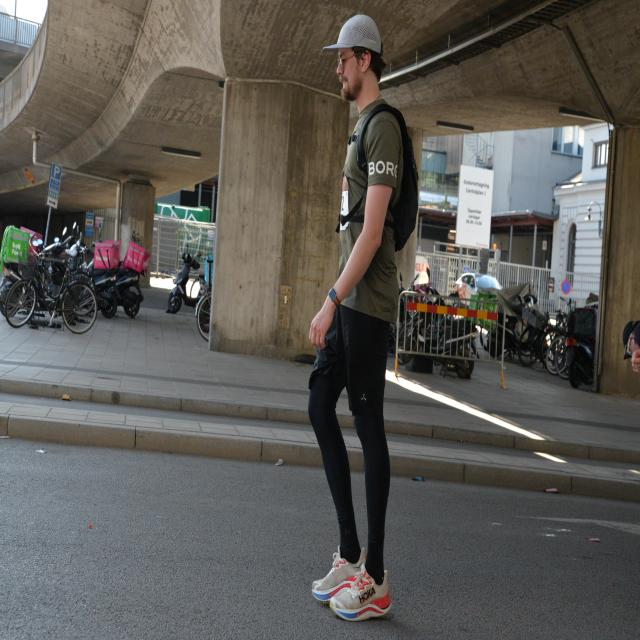runner-detect: (294, 12, 434, 620)
